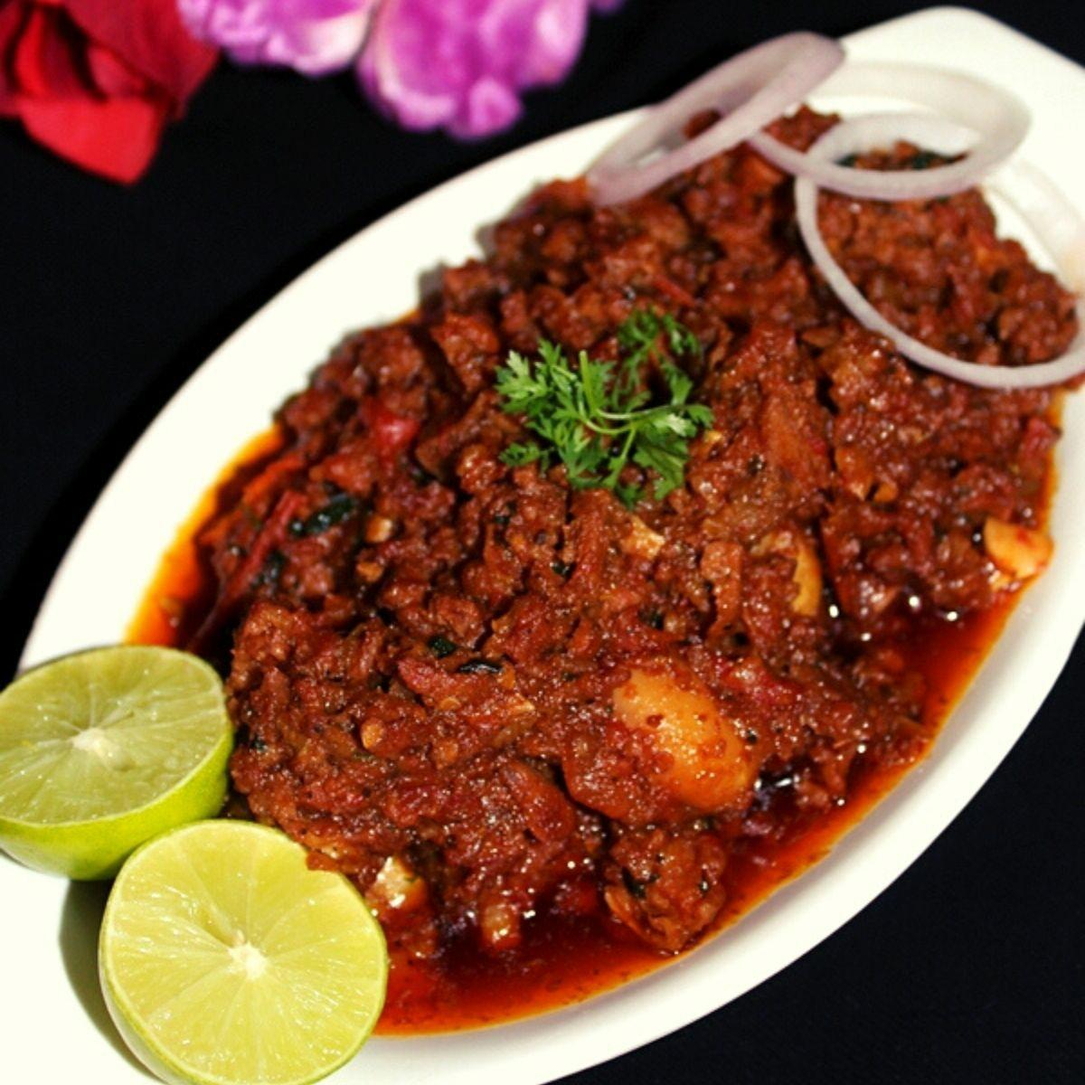MuttonCurry: (191, 103, 1085, 966)
